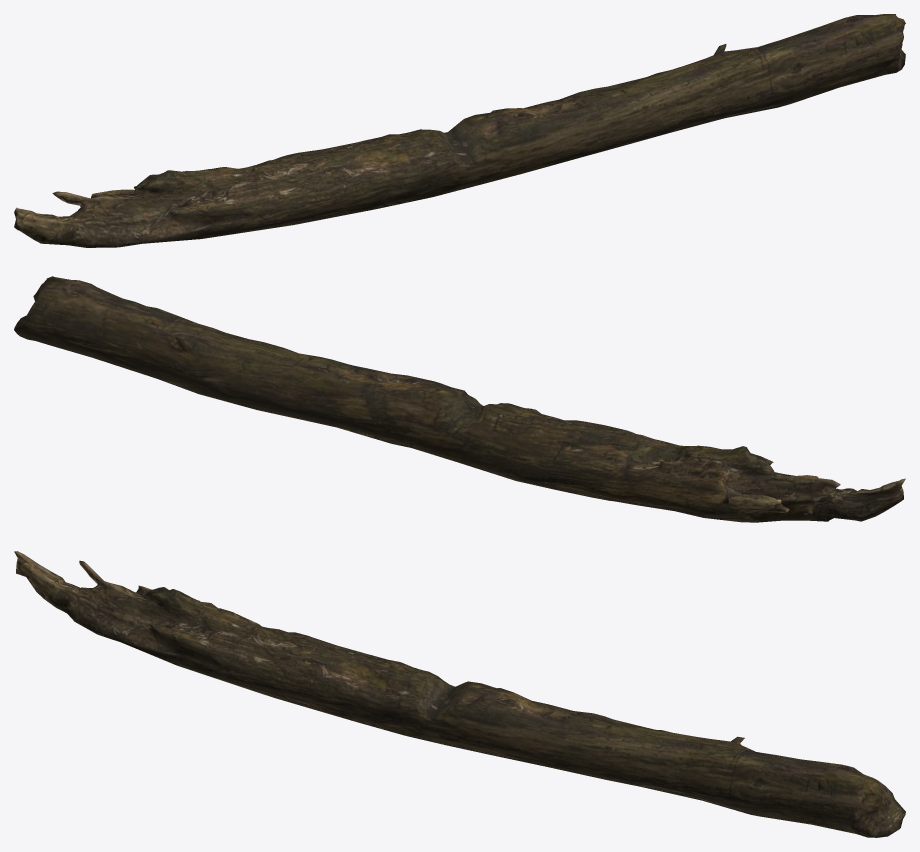
The picture shows the model from 3 angles, top to bottom: view 1: azimuth 30°, elevation 25°; view 2: azimuth 150°, elevation 25°; view 3: azimuth 330°, elevation 25°; orthographic projection.
Parts seen in each view (by area): view 1: dead_tree_trunk_lod1; view 2: dead_tree_trunk_lod1; view 3: dead_tree_trunk_lod1.
Part boxes in pixels (x1,y1,x2,y2): dead_tree_trunk_lod1: [14, 14, 905, 247]; dead_tree_trunk_lod1: [14, 276, 905, 522]; dead_tree_trunk_lod1: [14, 551, 905, 837].
Size of the model in its own units: 3.04 by 0.2866 by 0.2734.
Materials: 1 (1 with a texture image).
